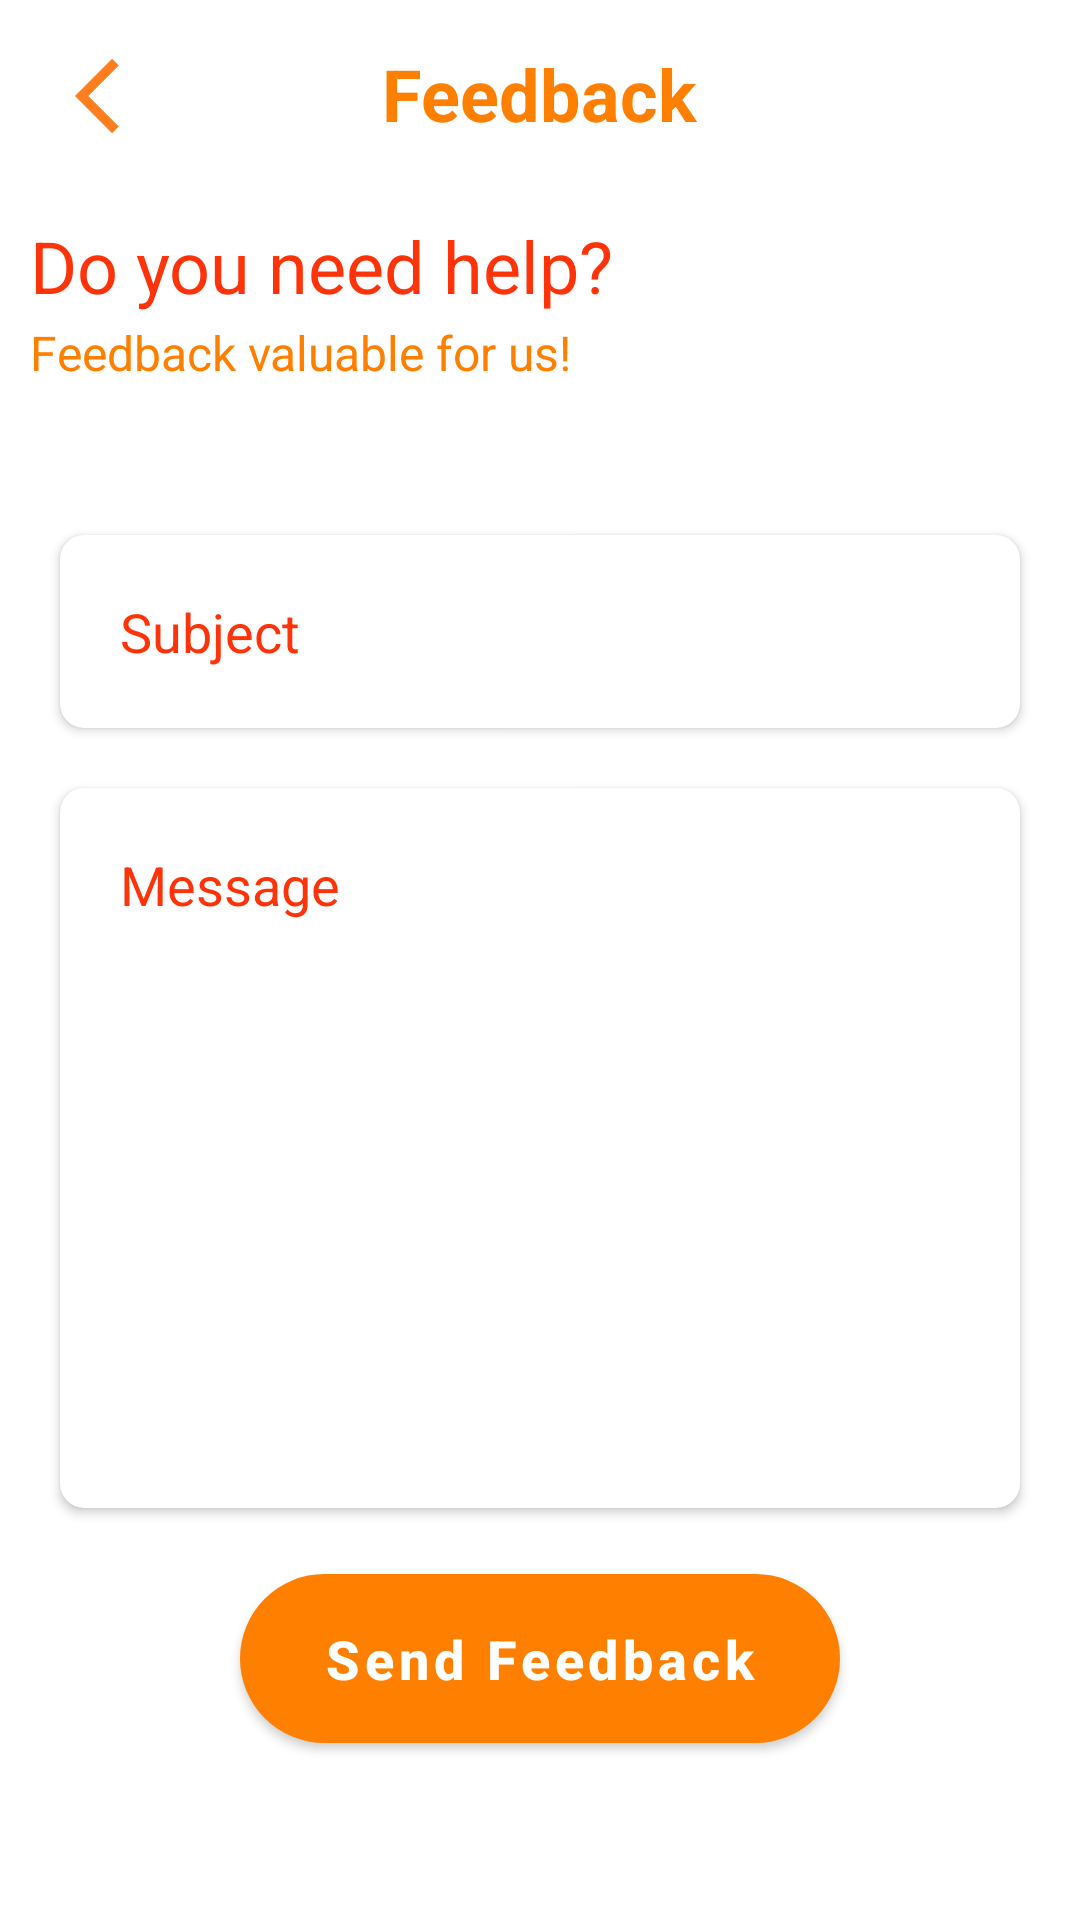

Where to tap for icons on this 1080px×1920px app screen, as (x=x, y=y):
arrow back: (x=97, y=96)
